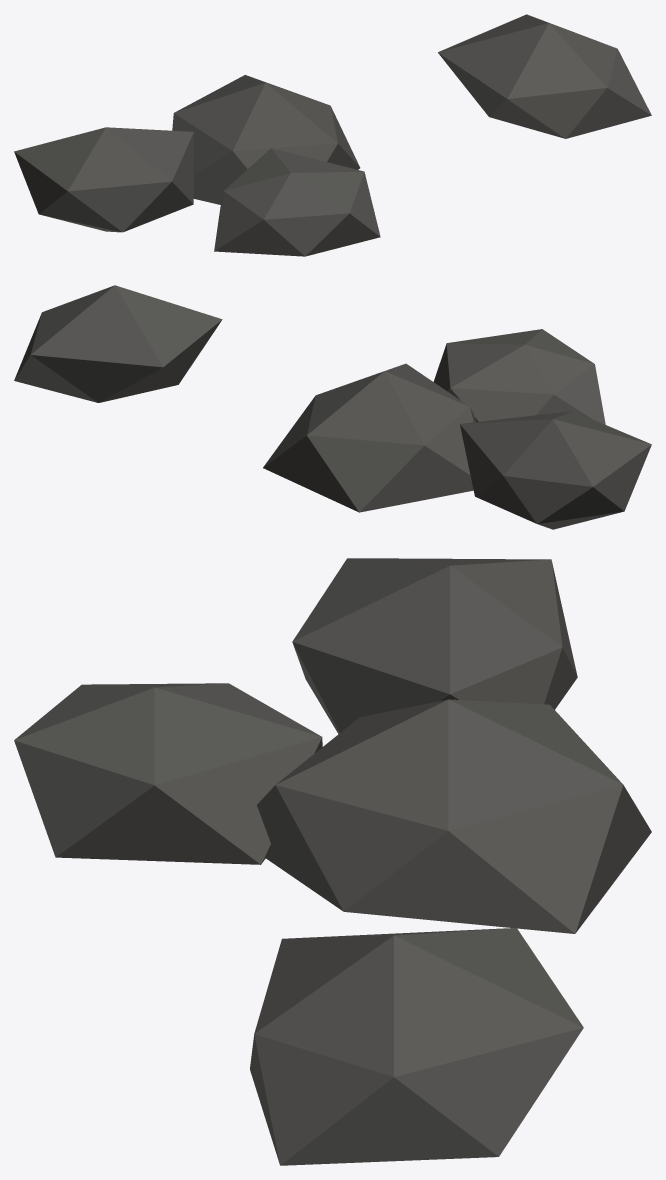
File: rock_rubble.glb
3 views of the same model, one above another, from view 1: azimuth 30°, elevation 25°; view 2: azimuth 150°, elevation 25°; view 3: azimuth 270°, elevation 25° (orthographic). The views are drawn at different scales.
Parts seen in each view (by area): view 1: rock_rubble; view 2: rock_rubble; view 3: rock_rubble.
Part boxes in pixels (left/top/right/bottom): rock_rubble: left=14, top=14, right=651, bottom=256; rock_rubble: left=14, top=285, right=651, bottom=529; rock_rubble: left=14, top=558, right=651, bottom=1165.
Size of the model in its own units: 1.26 by 0.2595 by 0.6578.
1 material, 1 textured.
